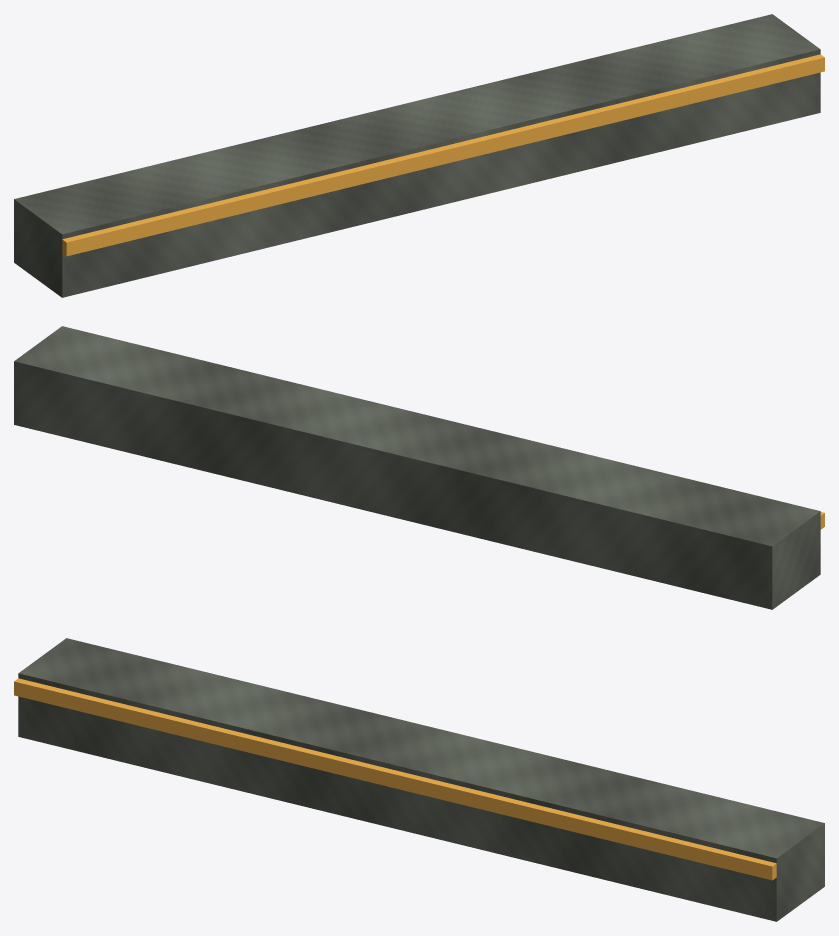
Rendered from Road_Curb_2m.glb.
3 renders of one model, top to bottom at view 1: azimuth 30°, elevation 25°; view 2: azimuth 150°, elevation 25°; view 3: azimuth 330°, elevation 25°, orthographic.
Visible parts, largest first — view 1: Road_Curb_2m; view 2: Road_Curb_2m; view 3: Road_Curb_2m.
Boxes of the visible parts, x1,y1,x2,y2 form: Road_Curb_2m: (14, 14, 824, 297); Road_Curb_2m: (14, 326, 824, 609); Road_Curb_2m: (14, 638, 824, 921).
Size of the model in its own units: 2 by 0.16 by 0.24.
2 materials, 1 textured.
